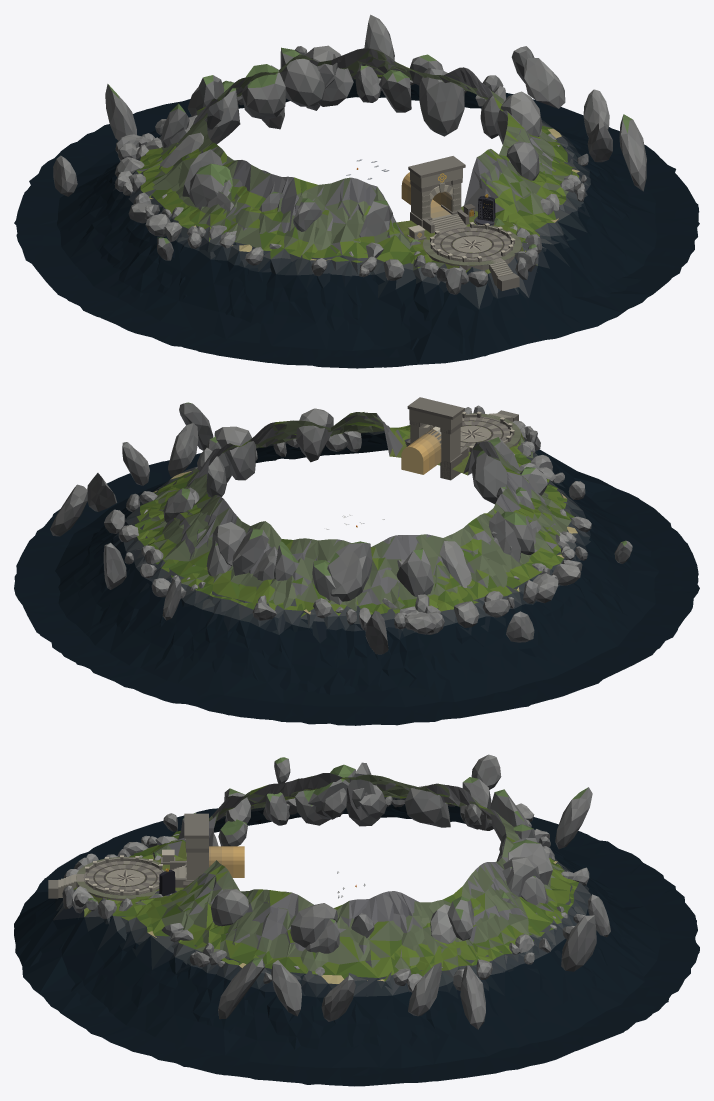
Rendered from WorldTower_Islet.fbx.
3 views of the same model, one above another, from view 1: azimuth 30°, elevation 25°; view 2: azimuth 150°, elevation 25°; view 3: azimuth 270°, elevation 25° (orthographic).
Parts seen in each view (by area): view 1: Islet_Far, Islet_Near, Plaza_Far, Plaza_Near; view 2: Islet_Near, Islet_Far, Plaza_Far; view 3: Islet_Far, Islet_Near, Plaza_Far.
Part boxes in pixels (x1,y1,x2,y2): Islet_Far: (16, 45, 698, 368); Islet_Near: (14, 14, 699, 367); Plaza_Far: (401, 156, 521, 290); Plaza_Near: (422, 187, 494, 225); Islet_Near: (14, 402, 699, 725); Islet_Far: (16, 412, 698, 724); Plaza_Far: (401, 397, 520, 480); Islet_Far: (14, 754, 698, 1086); Islet_Near: (14, 762, 699, 1086); Plaza_Far: (48, 813, 244, 900).
Size of the model in its own units: 347 by 64.75 by 345.
